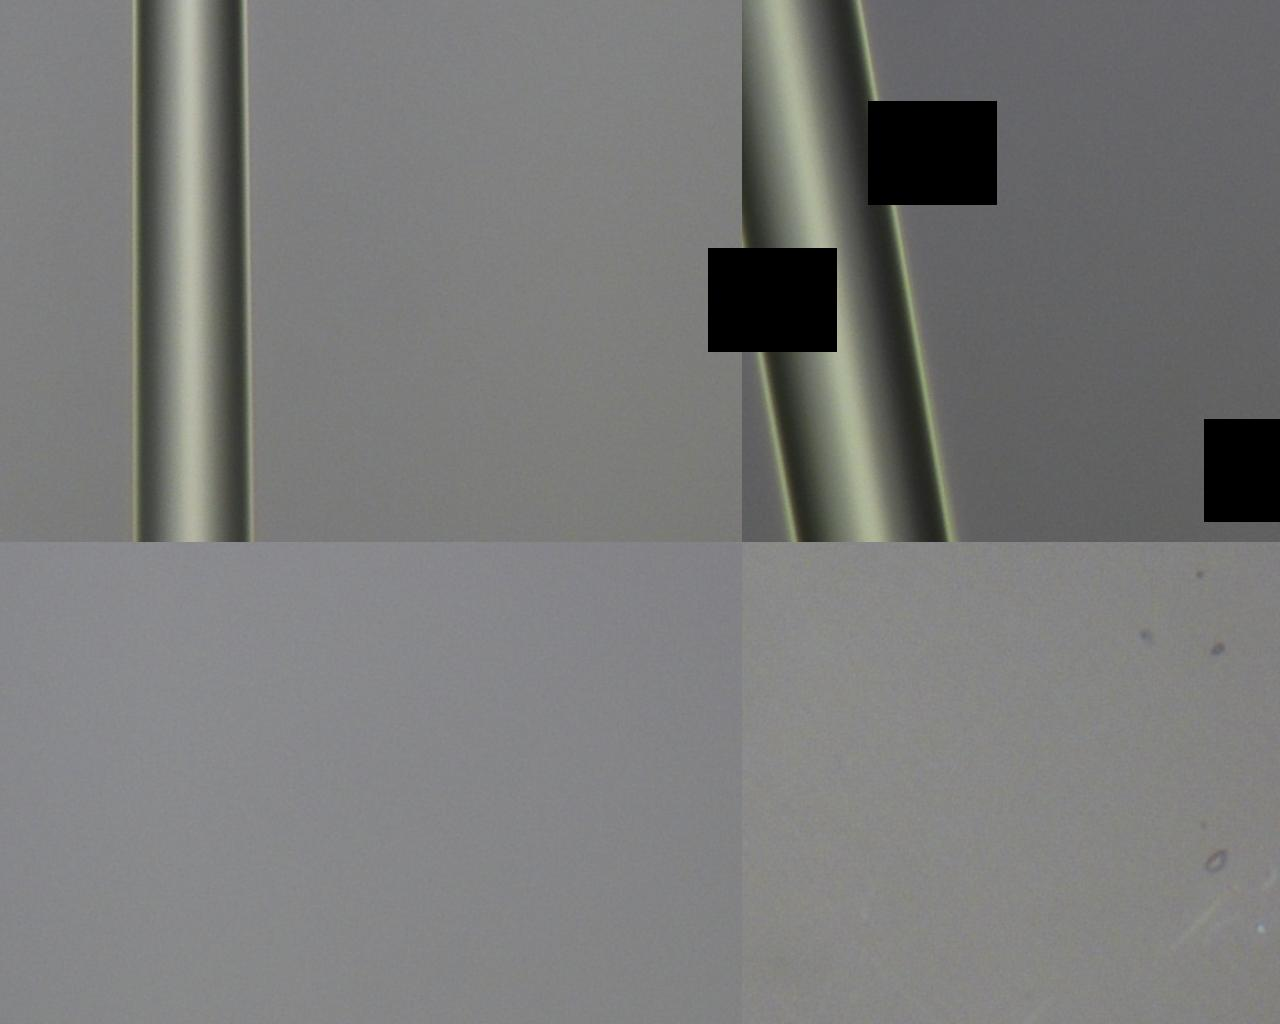fiber: (0, 0, 1086, 953)
